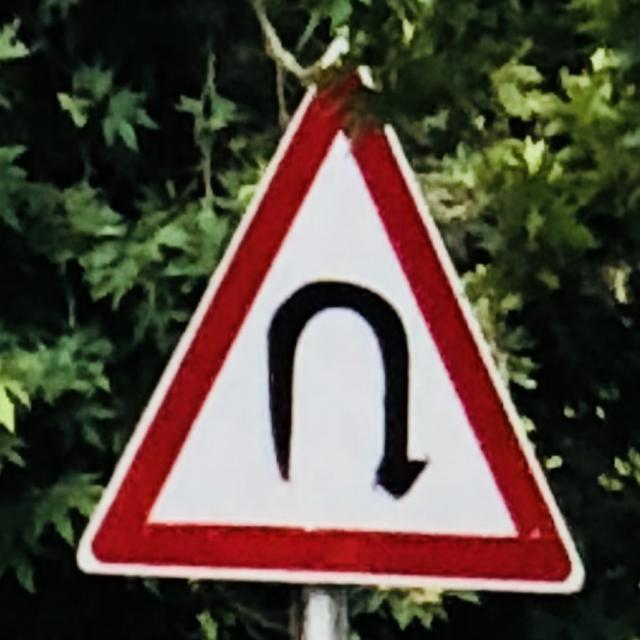u turn: (52, 30, 602, 592)
